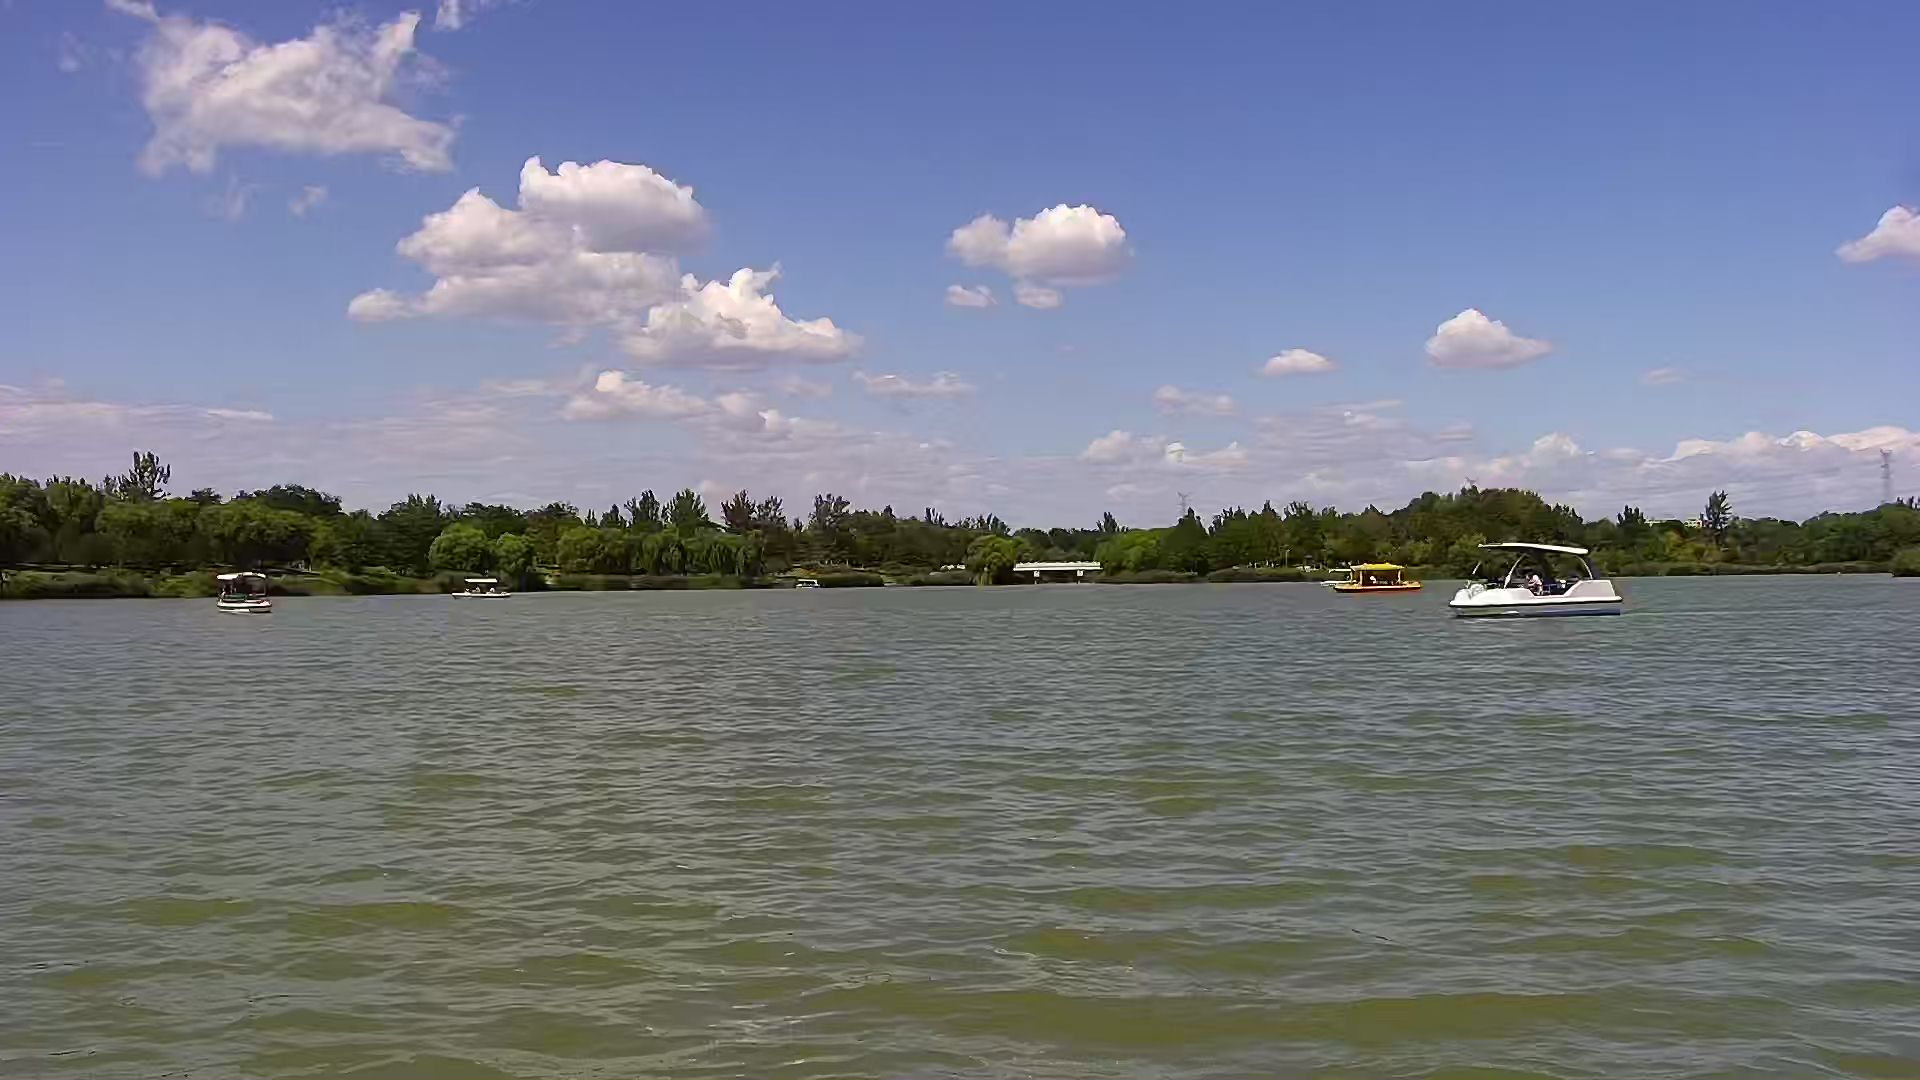boat: (1447, 542, 1623, 626), (1338, 558, 1422, 589), (218, 568, 269, 616), (448, 574, 506, 597), (1317, 567, 1356, 583)
bridge: (1014, 560, 1096, 583)
